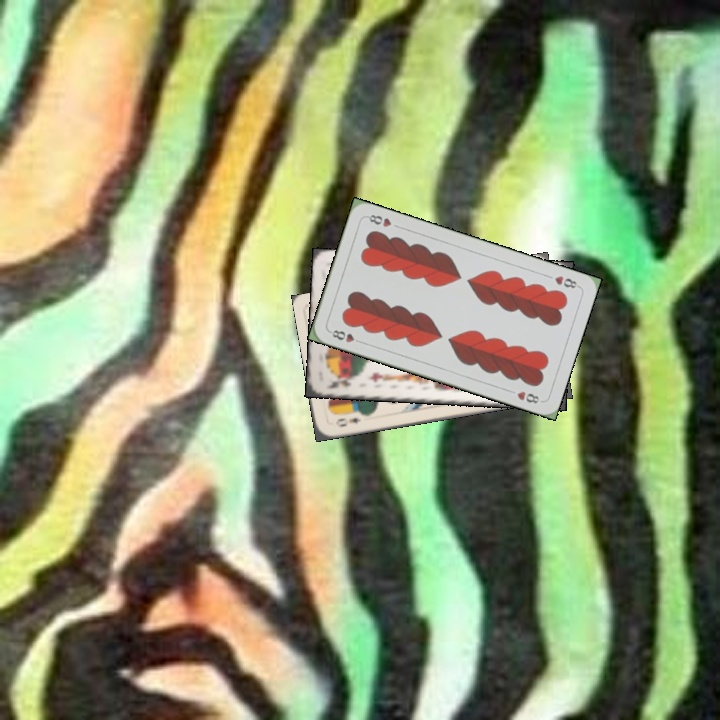EO: (332, 414, 363, 430)
H8: (325, 326, 365, 346), (551, 272, 582, 291)
SK: (323, 374, 353, 391)
